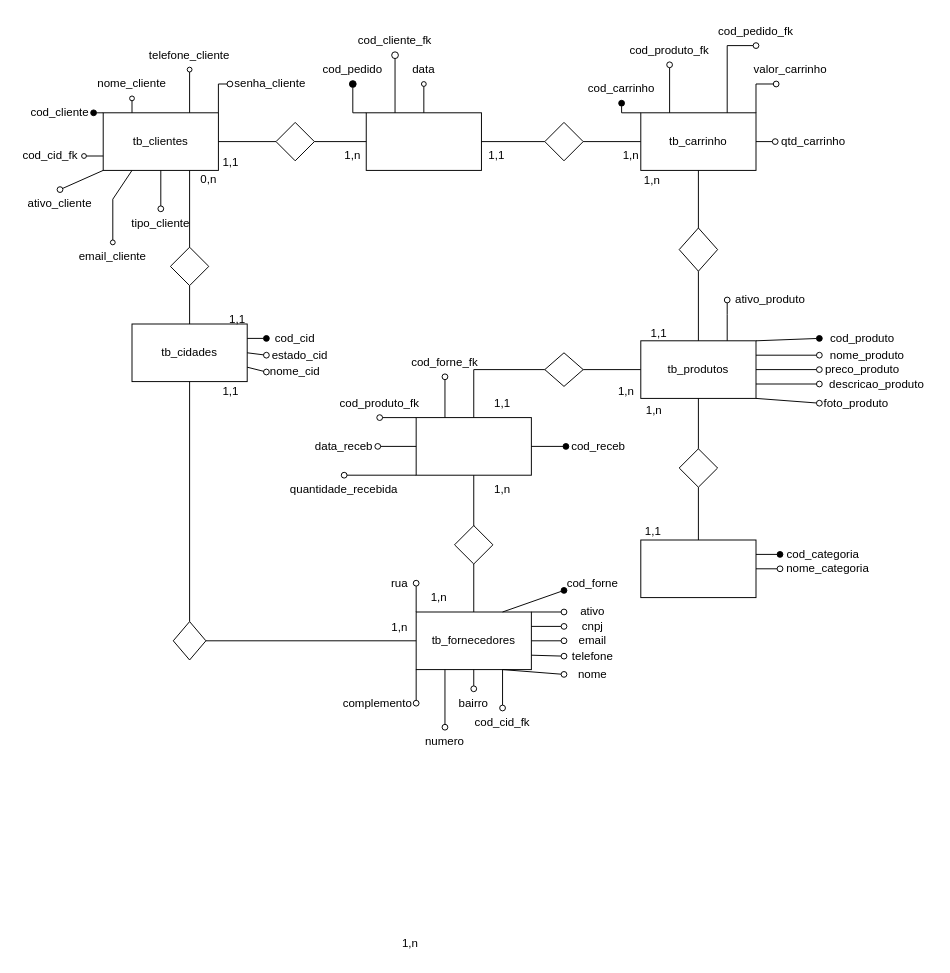
Some shapes in this 950 by 973 pixel diagram are drawn without their labels. The shapes that lost their labels are listed below. From the top down, each one's box as (x1, y1, x2, y2) in pixels, then its label:
(365, 112, 481, 170): tb_pedidos
(415, 417, 531, 475): tb_recebimentos
(640, 539, 756, 598): tb_categorias
